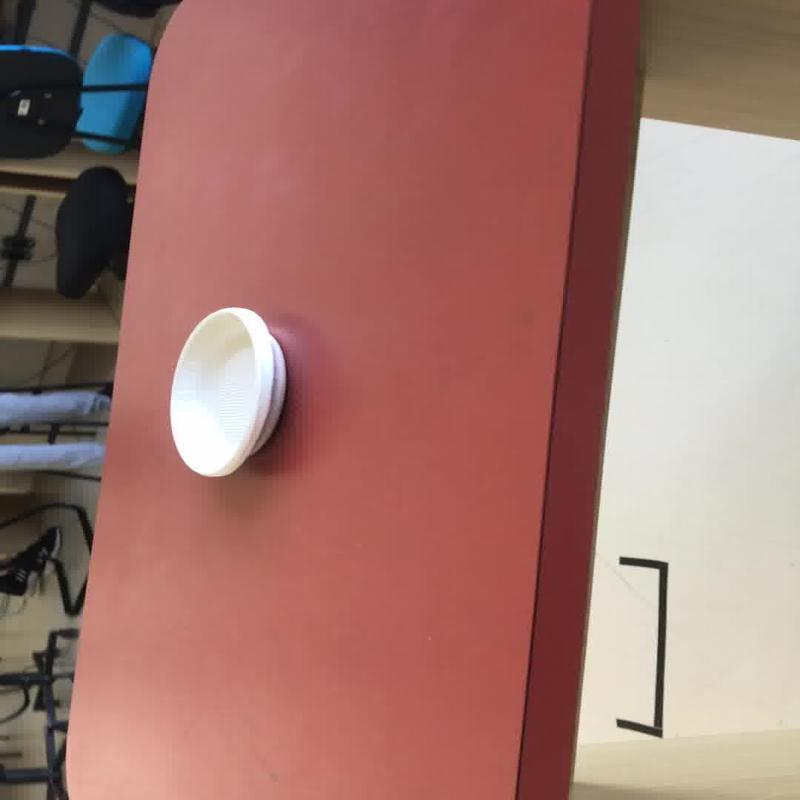plate: (166, 306, 286, 478)
